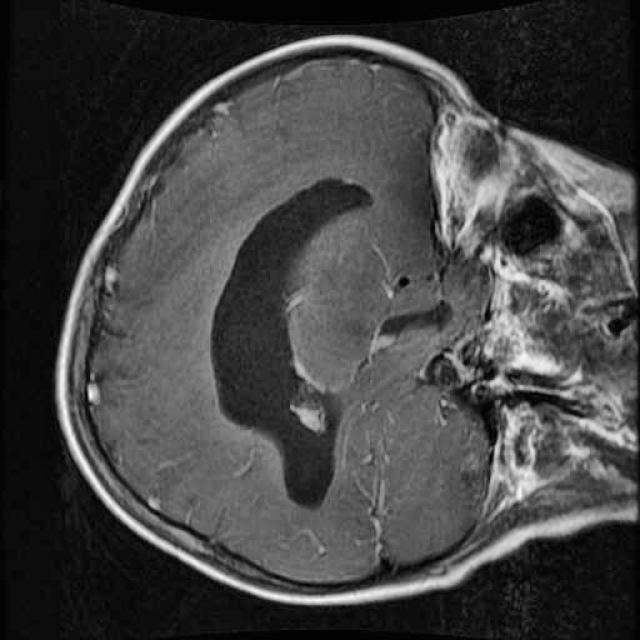Tumor: (203, 161, 385, 524)
